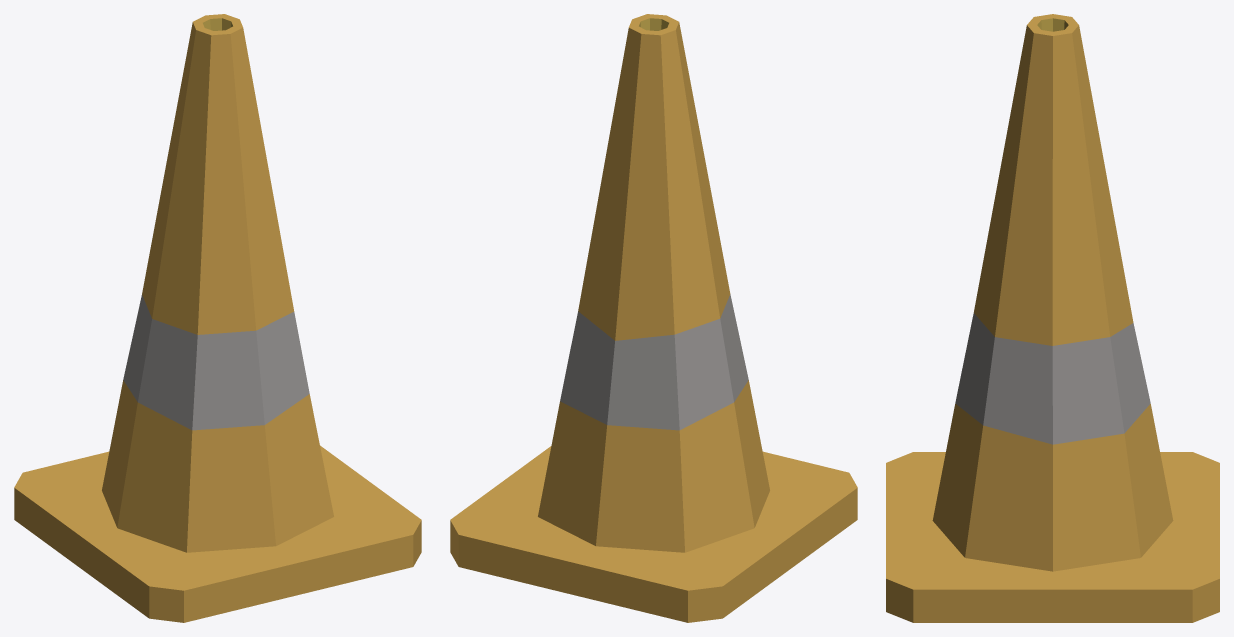
File: SM_Prop_Cone_01.fbx
3 renders of one model, left to right at view 1: azimuth 30°, elevation 25°; view 2: azimuth 150°, elevation 25°; view 3: azimuth 270°, elevation 25°, orthographic. The views are drawn at different scales.
Parts seen in each view (by area): view 1: SM_Prop_Cone_01; view 2: SM_Prop_Cone_01; view 3: SM_Prop_Cone_01.
Boxes of the visible parts, bbox=[...] form: SM_Prop_Cone_01: bbox=[14, 14, 421, 622]; SM_Prop_Cone_01: bbox=[450, 14, 857, 622]; SM_Prop_Cone_01: bbox=[886, 14, 1219, 622].
Bounding box in the file's own units: 47.11 × 84.42 × 48.27.
